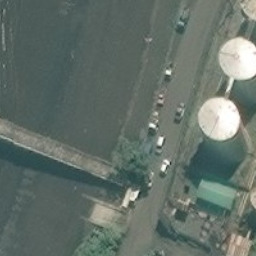buildings: (198, 95, 251, 165), (217, 33, 256, 82), (193, 173, 236, 210), (123, 185, 146, 211), (171, 195, 196, 217)
